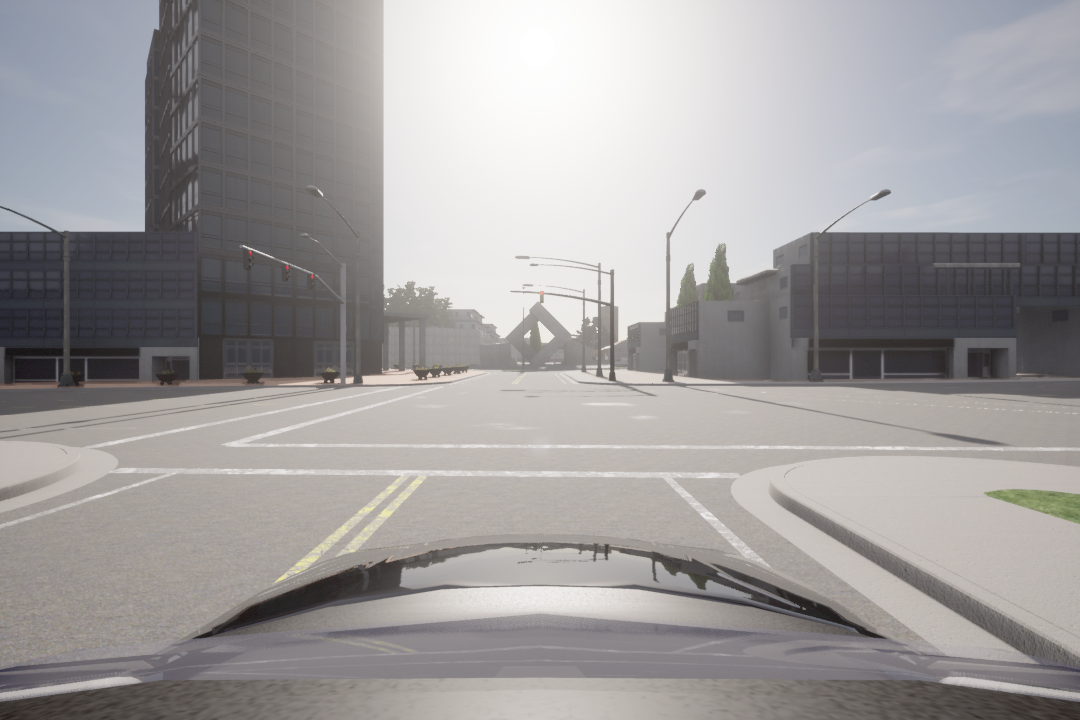TrafficLight: (238, 246, 255, 271), (277, 261, 292, 287), (306, 268, 317, 295), (537, 289, 547, 305)
